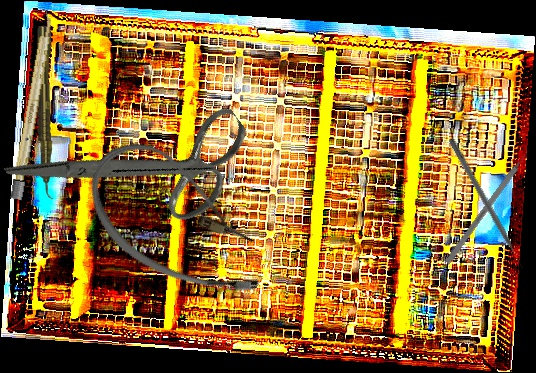Cannula: (67, 126, 294, 317)
Handpiece: (35, 25, 55, 200)
Hook Surgical: (444, 143, 535, 265)
Iris Scissors: (1, 37, 272, 294)
Pusher: (446, 137, 526, 271)
Scalpel Handle: (10, 10, 55, 202)
